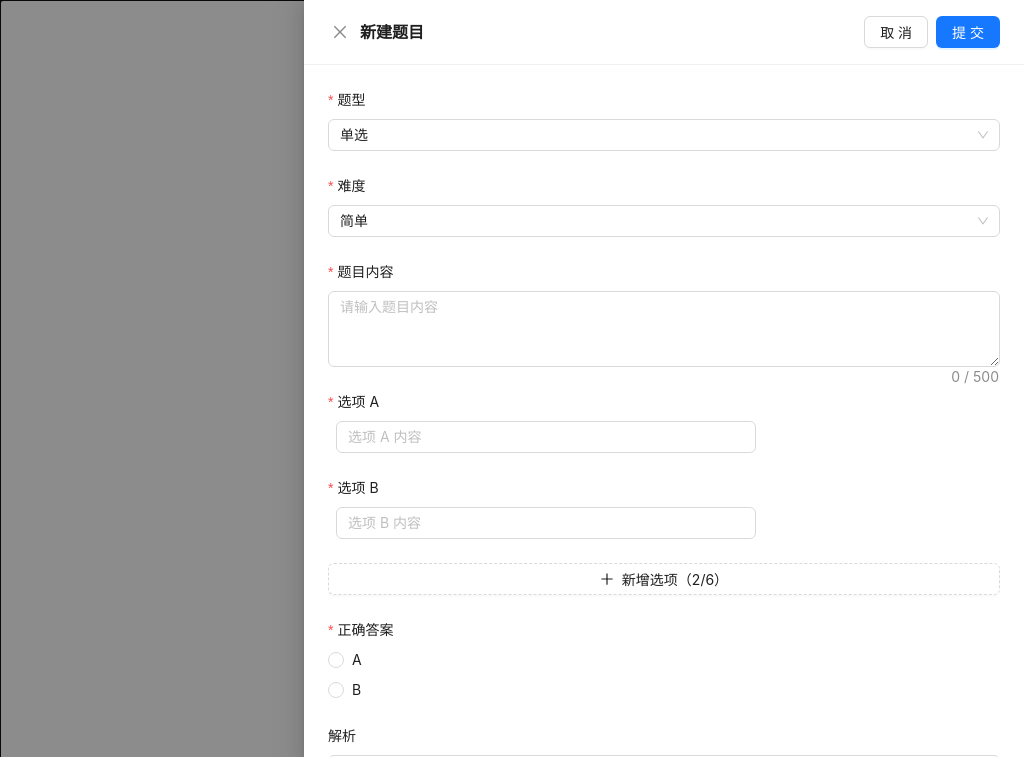
Test: QuestionFormDrawer — 题型切换 UX › 切换到判断：应隐藏选项，显示对/错
Check: the text "选项 A" is shown, box x1=328 y1=391 x2=393 y2=413
Click the dropdown labelled "题型": click(354, 100) x1=328 y1=89 x2=380 y2=111
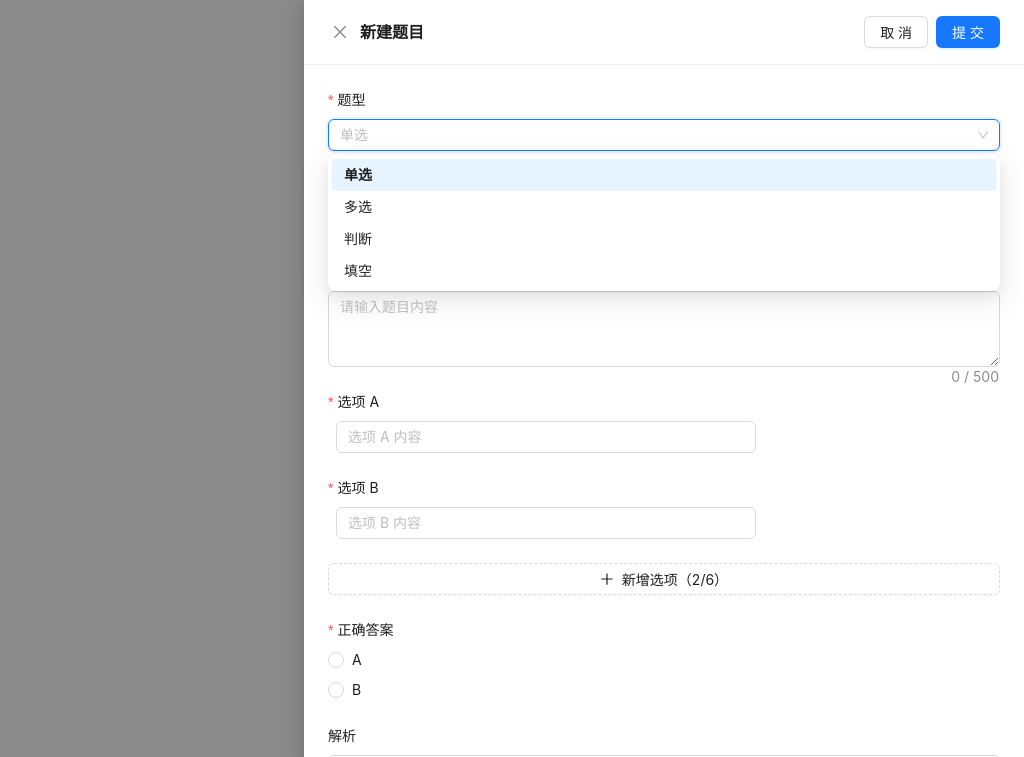
Click the text "判断": click(358, 238) x1=344 y1=230 x2=372 y2=247
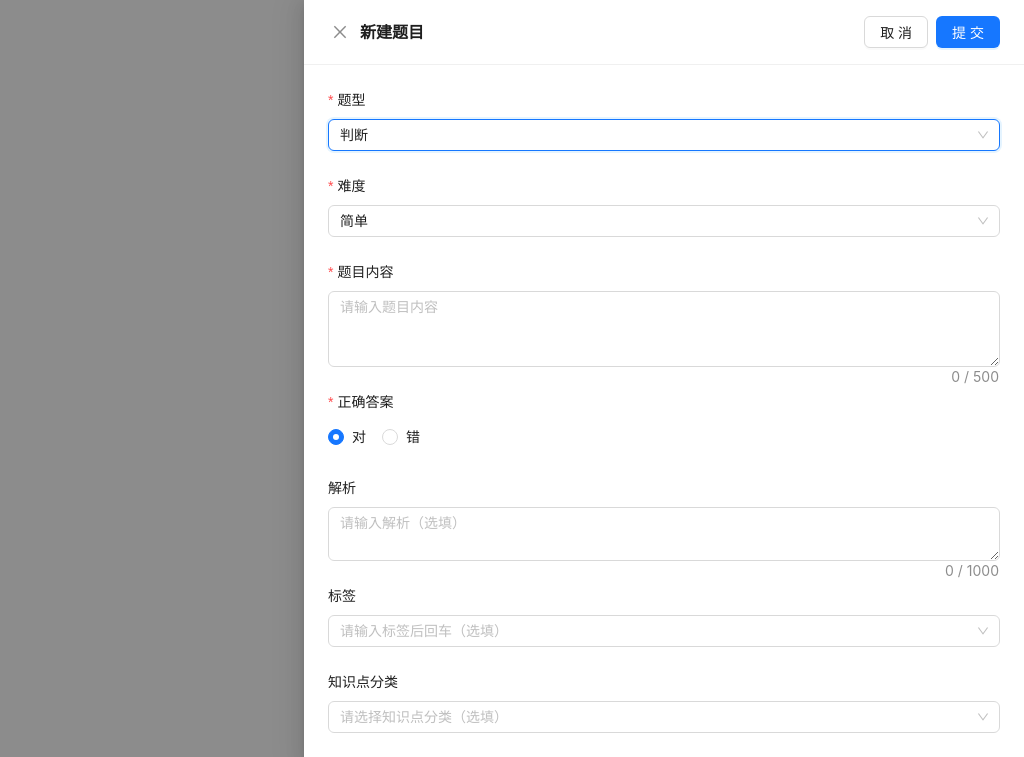
Check: the text "选项 A" is gone
Check: the text "对" is shown, box x1=352 y1=428 x2=366 y2=445
Check: the text "错" is shown, box x1=406 y1=428 x2=420 y2=445
